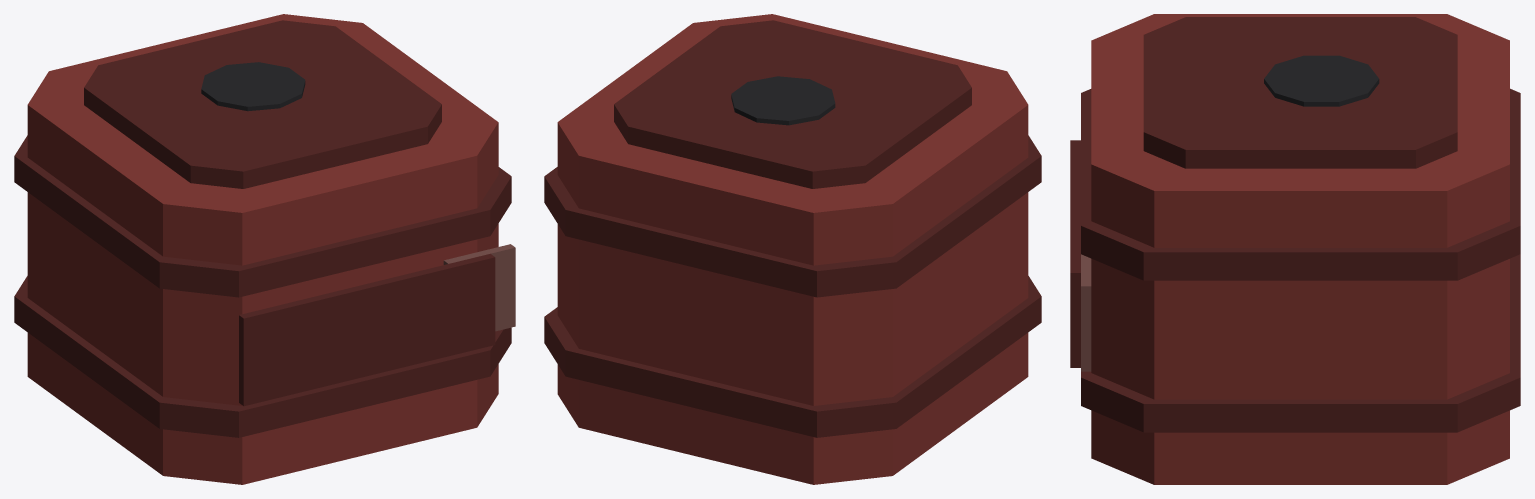
The model's file is ancient_chemfuel_canister_open.obj.
The picture shows the model from 3 angles, left to right: view 1: azimuth 30°, elevation 25°; view 2: azimuth 150°, elevation 25°; view 3: azimuth 270°, elevation 25°; orthographic projection. The views are drawn at different scales.
Parts seen in each view (by area): view 1: ancient_chemfuel_canister_open; view 2: ancient_chemfuel_canister_open; view 3: ancient_chemfuel_canister_open.
Boxes of the visible parts, x1=… form: ancient_chemfuel_canister_open: x1=14, y1=14, x2=515, y2=484; ancient_chemfuel_canister_open: x1=544, y1=14, x2=1041, y2=484; ancient_chemfuel_canister_open: x1=1070, y1=14, x2=1520, y2=484.
Bounding box in the file's own units: 0.84 × 0.67 × 0.86.
